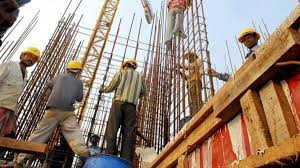arm: (98, 70, 119, 93)
face: (20, 50, 38, 66)
helmet: (17, 42, 43, 66), (234, 24, 261, 39), (63, 58, 83, 73)
human: (1, 39, 45, 138), (1, 1, 24, 52)
leg: (60, 111, 91, 153), (27, 105, 56, 145), (105, 101, 121, 153), (122, 109, 134, 159), (174, 8, 188, 37), (163, 13, 174, 45)
noglove: (206, 66, 219, 78)
novest: (47, 75, 81, 117), (1, 57, 25, 113), (119, 69, 140, 103)
